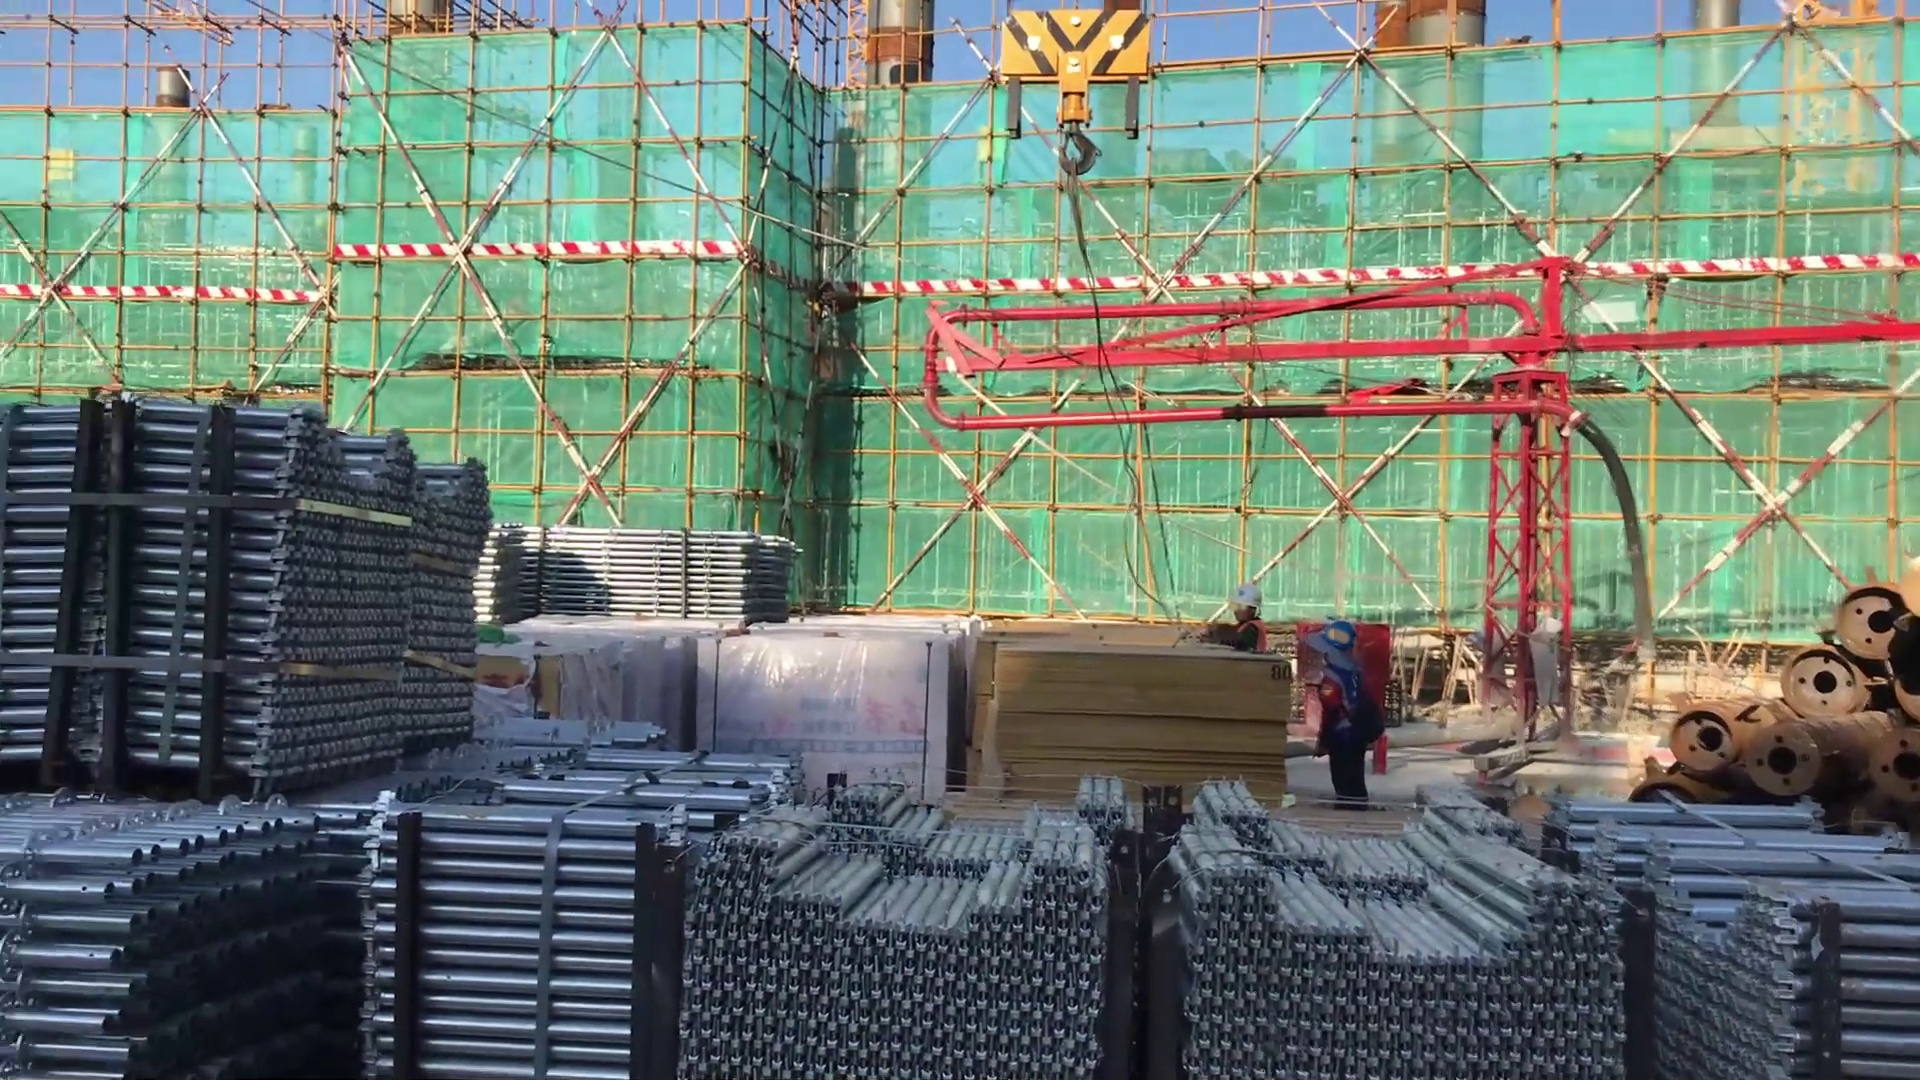board: (969, 626, 1291, 811)
helmet: (1306, 613, 1358, 681), (1225, 584, 1268, 627)
hook: (984, 2, 1176, 195)
person: (1306, 616, 1388, 824), (1173, 583, 1278, 665)
scaffold: (5, 713, 709, 1080), (1, 394, 502, 784), (668, 773, 1156, 1080), (1181, 781, 1640, 1080), (1551, 788, 1920, 1078), (455, 527, 813, 627)
vest: (1315, 665, 1382, 765), (1231, 620, 1271, 657)
